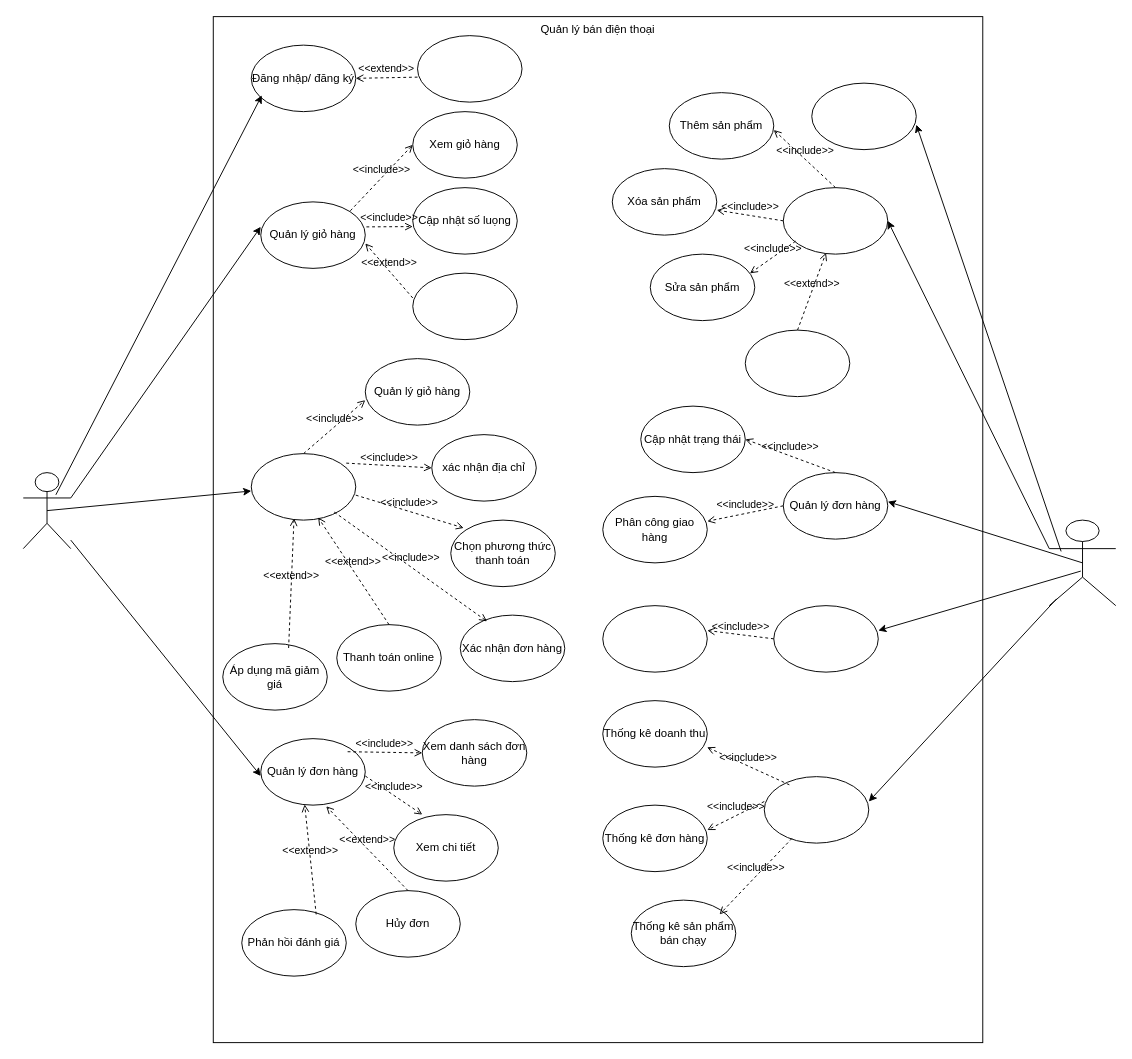
This 1132x1059 diagram has some shape labels left out. Each missing label, with the centre of its shape:
"Admin" belongs at (1082,562).
"Cập nhật số lượng tồn" belongs at (654,638).
"Khách hàng" belongs at (46,510).
"Quên mật khẩu" belongs at (469,68).
"Quản lý kho" belongs at (825,638).
"Quản lý sản phẩm" belongs at (835,220).
"Quản lý đặt hàng" belongs at (303,486).
"Thống kê &n báo cáo" belongs at (816,809).
"Tìm kiếm" belongs at (797,363).
"Xóa giỏ hàng" belongs at (464,306).
"Đăng nhập" belongs at (863,116).
